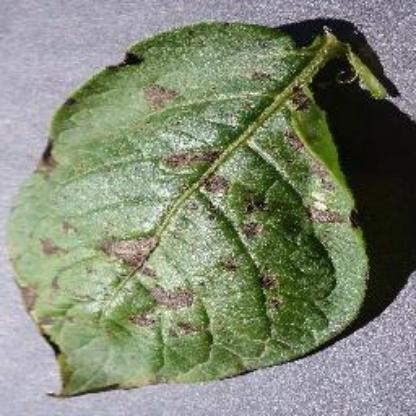Early-Blight: (7, 15, 399, 399)
